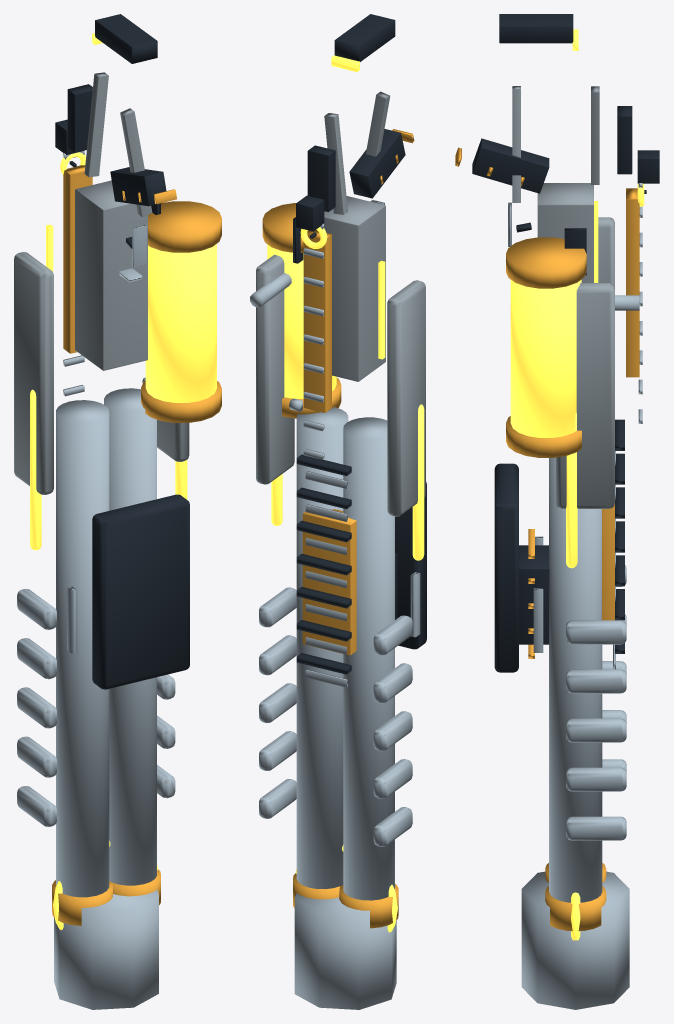
The model's file is scattergun.glb.
3 views of the same model, side by side, from view 1: azimuth 30°, elevation 25°; view 2: azimuth 150°, elevation 25°; view 3: azimuth 270°, elevation 25° (orthographic). The views are drawn at different scales.
Parts seen in each view (by area): view 1: Barrel_L, REFIT scattergun pump shroud, Barrel_R, Receiver, PlasmaTank, MuzzleBrake, REFIT scattergun titan ceramic receiver, TankCap_B, UpperRailBase, ButtPad, TankCap_F, PistolGrip (+14 smaller); view 2: Barrel_L, Barrel_R, MuzzleBrake, Receiver, REFIT scattergun titan ceramic receiver, REFIT scattergun titan ceramic receiver.001, BarrelShroud, UpperRailBase, PlasmaTank, REFIT scattergun pump shroud, PistolGrip, ButtPad (+30 smaller); view 3: Barrel_R, MuzzleBrake, PlasmaTank, REFIT scattergun titan ceramic receiver.001, REFIT scattergun pump shroud, TankCap_B, Receiver, PistolGrip, UpperRailBase, PumpForegrip, ButtPad, TankCap_F (+15 smaller).
Boxes of the visible parts, box(x1,y1,x2,y2) form: Barrel_L: box(56, 400, 109, 897); REFIT scattergun pump shroud: box(92, 494, 189, 689); Barrel_R: box(104, 388, 156, 885); Receiver: box(75, 180, 147, 370); PlasmaTank: box(145, 244, 216, 402); MuzzleBrake: box(54, 890, 158, 1009); REFIT scattergun titan ceramic receiver: box(14, 252, 53, 494); TankCap_B: box(148, 201, 221, 252); UpperRailBase: box(63, 165, 92, 353); ButtPad: box(95, 14, 157, 63); TankCap_F: box(141, 381, 221, 422); PistolGrip: box(110, 167, 166, 206); Barrel_L: box(343, 417, 394, 900); Barrel_R: box(296, 407, 348, 888); MuzzleBrake: box(294, 893, 396, 1009); Receiver: box(316, 196, 385, 381); REFIT scattergun titan ceramic receiver: box(387, 280, 425, 516); REFIT scattergun titan ceramic receiver.001: box(256, 254, 294, 484); BarrelShroud: box(302, 509, 356, 655); UpperRailBase: box(303, 230, 331, 412); PlasmaTank: box(267, 244, 336, 398); REFIT scattergun pump shroud: box(395, 482, 426, 649); PistolGrip: box(349, 129, 405, 198); ButtPad: box(334, 14, 395, 61); Barrel_R: box(549, 457, 602, 902); MuzzleBrake: box(521, 871, 629, 1009); PlasmaTank: box(510, 279, 581, 437); REFIT scattergun titan ceramic receiver.001: box(556, 283, 614, 508); REFIT scattergun pump shroud: box(494, 463, 518, 672); TankCap_B: box(506, 237, 586, 288); Receiver: box(537, 183, 593, 282); PistolGrip: box(472, 138, 549, 193); UpperRailBase: box(626, 188, 639, 377); PumpForegrip: box(519, 545, 549, 644); ButtPad: box(499, 14, 573, 43); TankCap_F: box(506, 416, 581, 457).
Size of the model in its own units: 0.2014 by 1.08 by 0.208.
